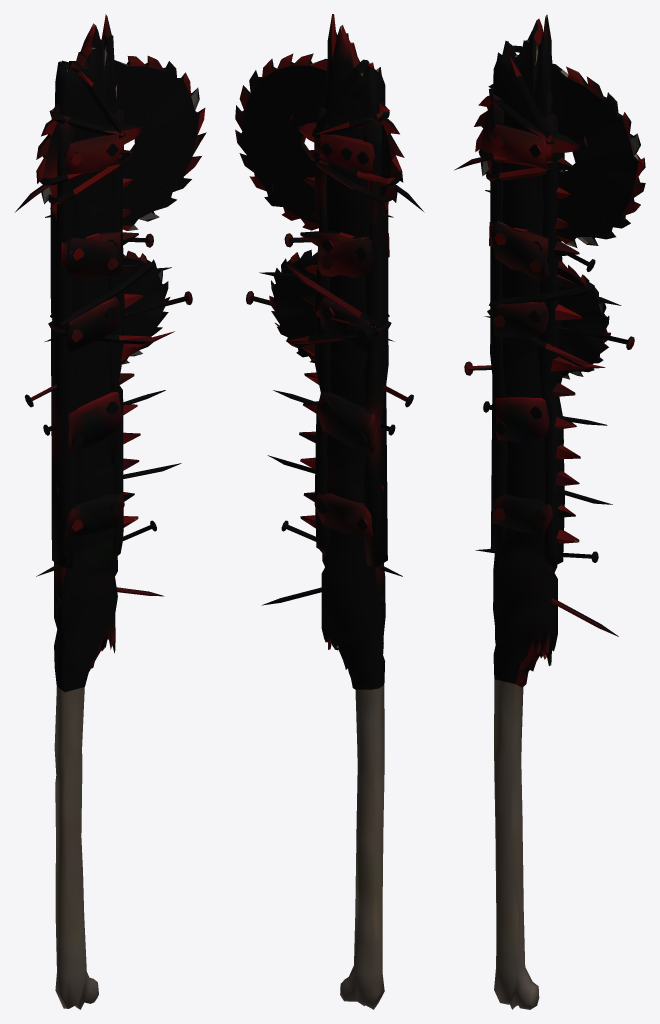
The picture shows the model from 3 angles, left to right: view 1: azimuth 30°, elevation 25°; view 2: azimuth 150°, elevation 25°; view 3: azimuth 330°, elevation 25°; orthographic projection.
Parts seen in each view (by area): view 1: mesh_0; view 2: mesh_0; view 3: mesh_0.
Boxes of the visible parts, left/top/right/bottom form: mesh_0: left=14, top=14, right=206, bottom=1009; mesh_0: left=235, top=14, right=424, bottom=1009; mesh_0: left=454, top=14, right=645, bottom=1009.
Size of the model in its own units: 11.43 by 56.29 by 1.86.
Materials: 1 (1 with a texture image).
